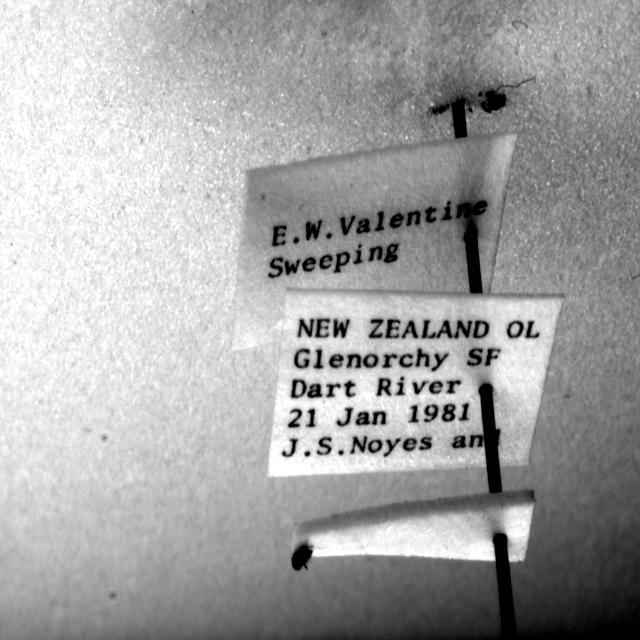typed_label: (232, 133, 516, 349), (269, 291, 562, 476)
